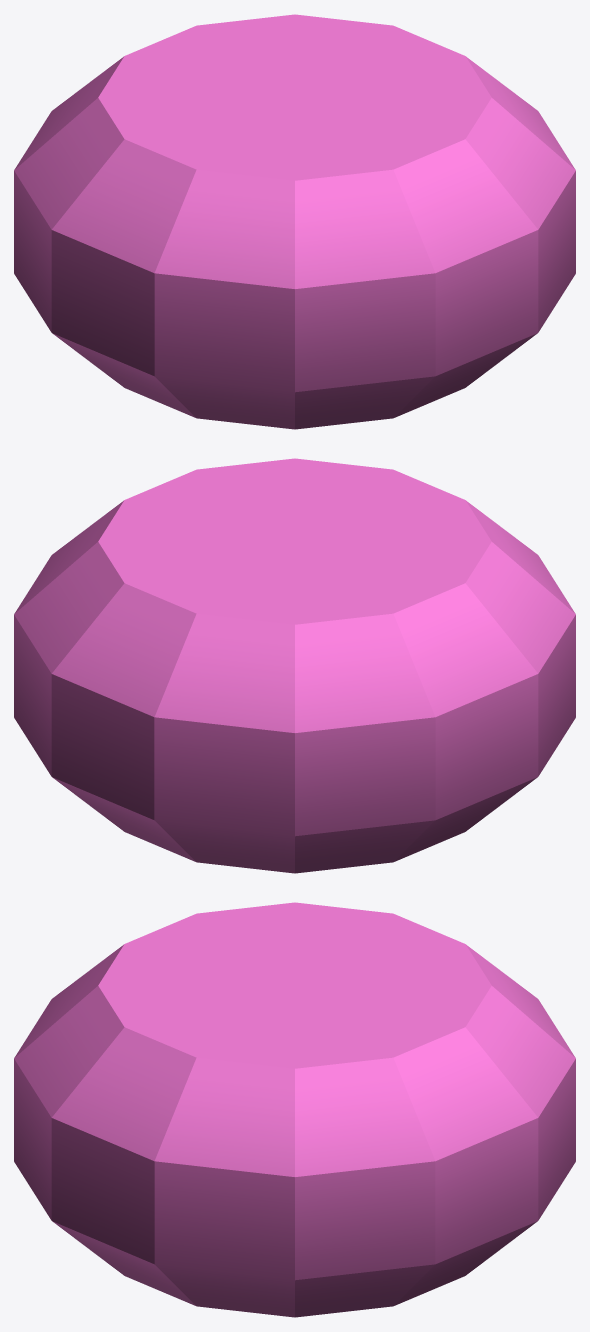
The model's file is Crystal001.fbx.
The picture shows the model from 3 angles, top to bottom: view 1: azimuth 30°, elevation 25°; view 2: azimuth 150°, elevation 25°; view 3: azimuth 270°, elevation 25°; orthographic projection.
Parts seen in each view (by area): view 1: Crystal001; view 2: Crystal001; view 3: Crystal001.
Boxes of the visible parts, box(x1,y1,x2,y2) form: Crystal001: box(14, 14, 575, 429); Crystal001: box(14, 458, 575, 873); Crystal001: box(14, 902, 575, 1317).
Bounding box in the file's own units: 84.61 × 41.32 × 84.61.
